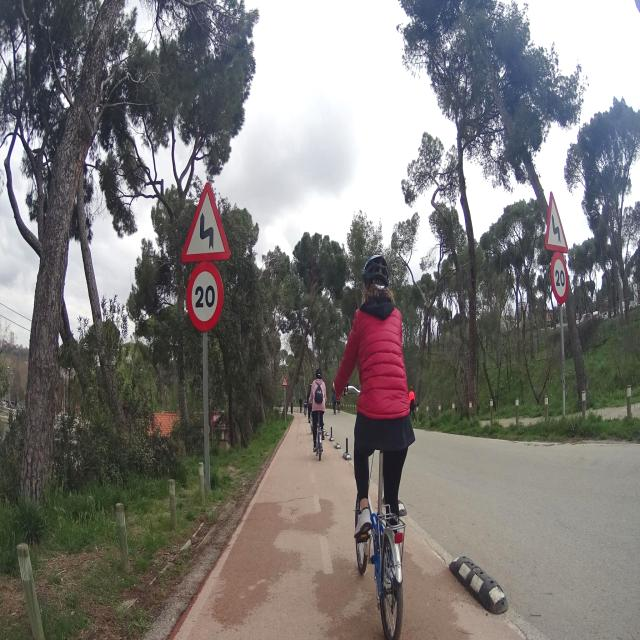bike: (345, 391, 416, 640), (310, 407, 325, 460)
